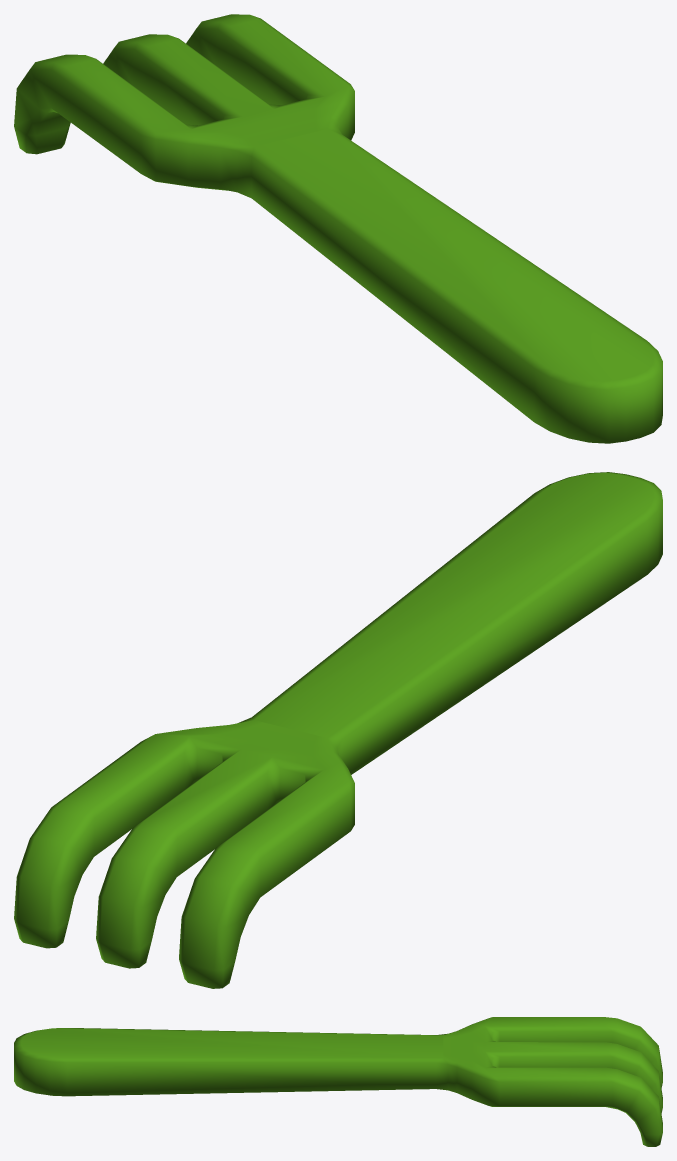
The model's file is Beach_Toy_1.fbx.
3 renders of one model, top to bottom at view 1: azimuth 30°, elevation 25°; view 2: azimuth 150°, elevation 25°; view 3: azimuth 270°, elevation 25°, orthographic. The views are drawn at different scales.
Parts seen in each view (by area): view 1: Beach_Toy_1; view 2: Beach_Toy_1; view 3: Beach_Toy_1.
Boxes of the visible parts, <box> form: Beach_Toy_1: <box>14,14,662,443</box>; Beach_Toy_1: <box>14,472,662,988</box>; Beach_Toy_1: <box>14,1017,662,1146</box>.
Bounding box in the file's own units: 14.53 × 7.95 × 62.12.
